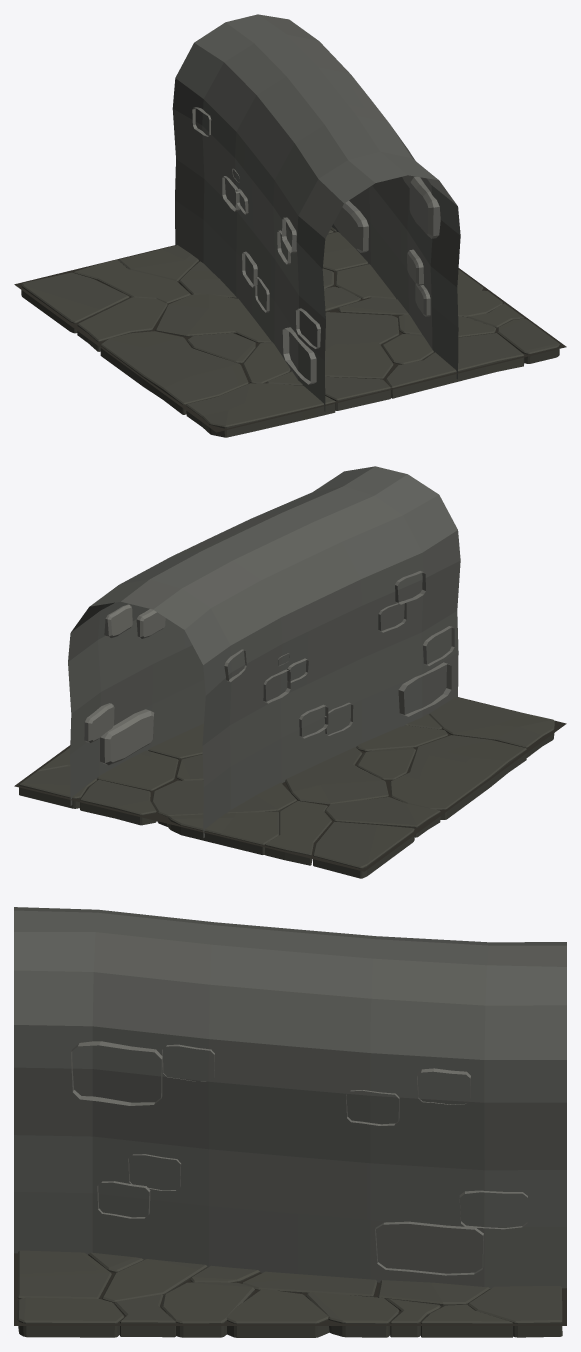
Rendered from Hallway_toStaircase_Top.glb.
The picture shows the model from 3 angles, top to bottom: view 1: azimuth 30°, elevation 25°; view 2: azimuth 150°, elevation 25°; view 3: azimuth 270°, elevation 25°; orthographic projection. The views are drawn at different scales.
Visible parts, largest first — view 1: Hallway_toStaircase_Top; view 2: Hallway_toStaircase_Top; view 3: Hallway_toStaircase_Top.
Boxes of the visible parts, left/top/right/bottom form: Hallway_toStaircase_Top: left=14, top=14, right=566, bottom=437; Hallway_toStaircase_Top: left=14, top=466, right=566, bottom=878; Hallway_toStaircase_Top: left=14, top=907, right=566, bottom=1337.
Size of the model in its own units: 4 by 2.42 by 4.
Materials: 2 (2 with a texture image).
